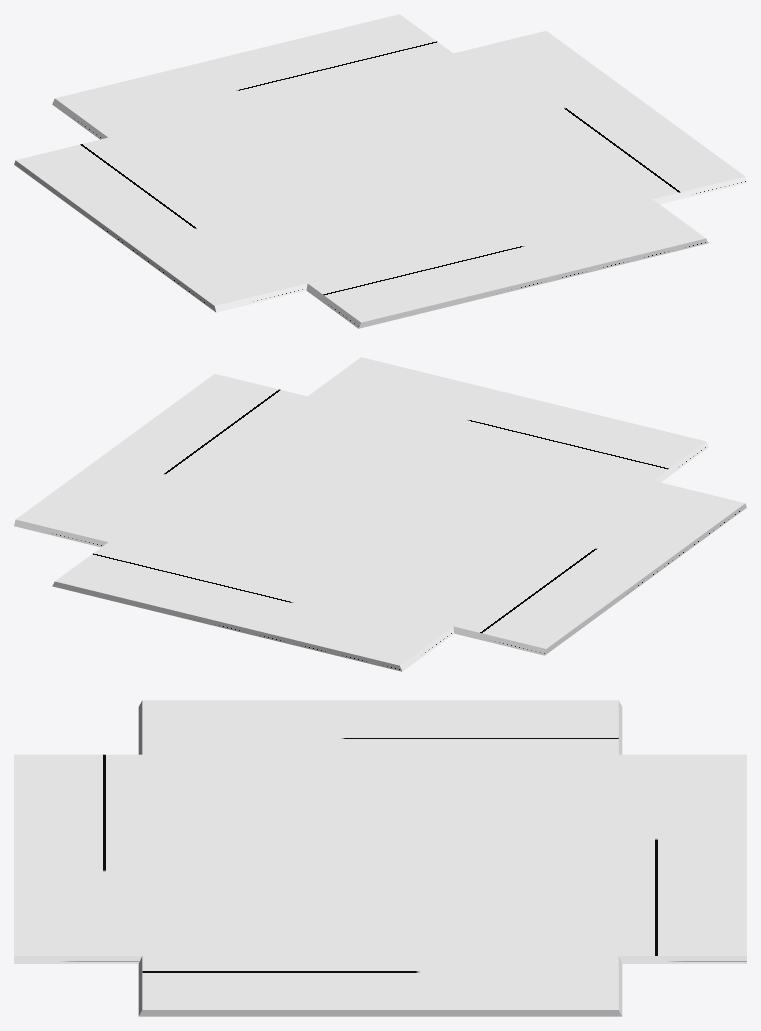
Rendered from bibeko-50-kruispunt.FBX.
3 views of the same model, one above another, from view 1: azimuth 30°, elevation 25°; view 2: azimuth 150°, elevation 25°; view 3: azimuth 270°, elevation 25° (orthographic). The views are drawn at different scales.
Parts seen in each view (by area): view 1: bibeko-50-kruispunt, bibeko-50-kruispunt001; view 2: bibeko-50-kruispunt, bibeko-50-kruispunt001; view 3: bibeko-50-kruispunt, bibeko-50-kruispunt001.
Boxes of the visible parts, bbox=[...] form: bibeko-50-kruispunt: bbox=[14, 14, 746, 328]; bibeko-50-kruispunt001: bbox=[108, 53, 652, 283]; bibeko-50-kruispunt: bbox=[14, 357, 746, 671]; bibeko-50-kruispunt001: bbox=[108, 396, 652, 626]; bibeko-50-kruispunt: bbox=[14, 700, 746, 1016]; bibeko-50-kruispunt001: bbox=[142, 754, 618, 955].
Bounding box in the file's own units: 394 × 3.94 × 394.
Materials: 2 (1 with a texture image).
